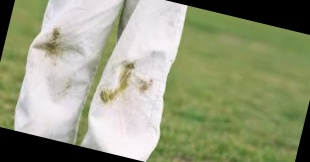earth: (41, 26, 68, 61), (117, 62, 137, 92), (134, 76, 154, 96), (97, 89, 118, 106)
